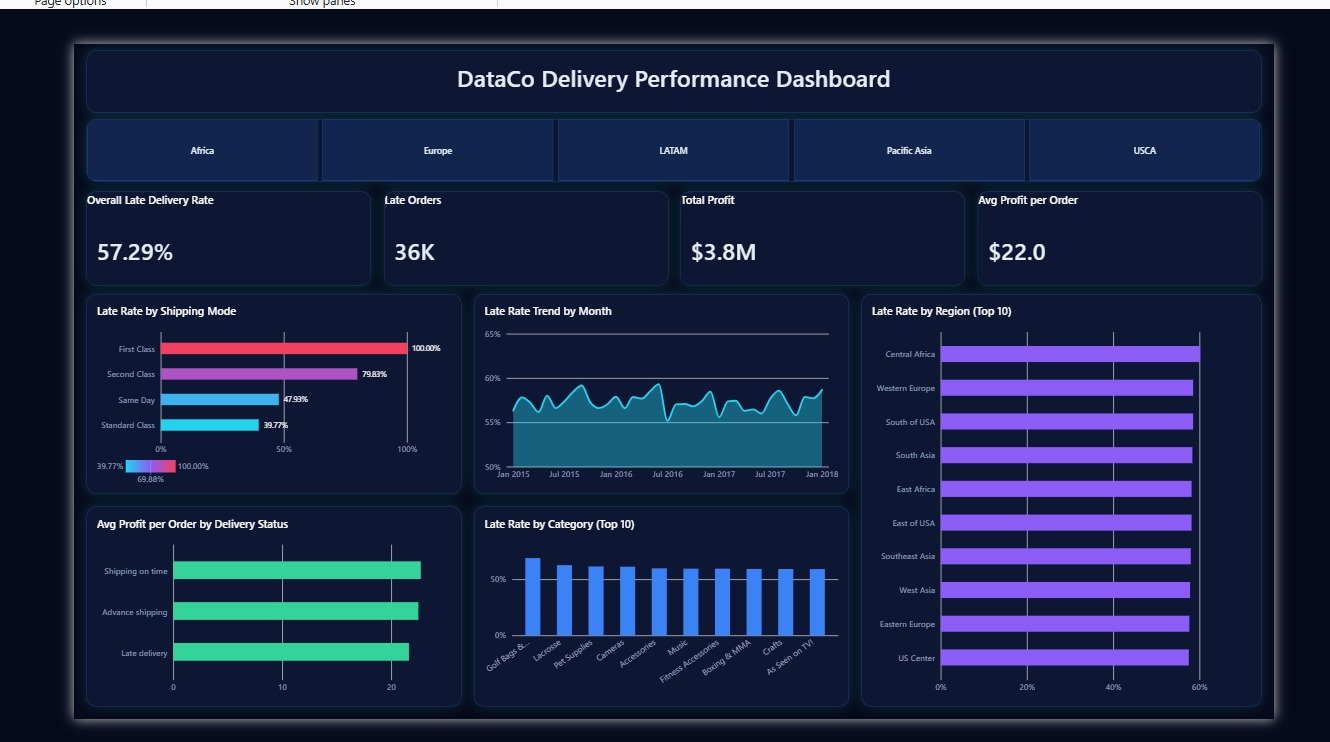

This screenshot's page, from the dashboard's own definition file:
{"tool":"powerbi","page":{"name":"Page 1","canvas":[1920,1080],"ordinal":1},"visuals":[{"type":"cardVisual","title":"Overall Late Delivery Rate","fields":{"Data":["Avg(dataco_clean.late_delivery_risk)"]},"box":[20,235,455,150],"z":0},{"type":"clusteredBarChart","title":"Late Rate by Shipping Mode","fields":{"Category":["dataco_clean.shipping_mode"],"Y":["Avg(dataco_clean.late_delivery_risk)"]},"box":[20,400,600,320],"z":1000},{"type":"clusteredColumnChart","title":"Late Rate by Category (Top 10)","fields":{"Category":["dataco_clean.category_name"],"Y":["Avg(dataco_clean.late_delivery_risk)"]},"box":[640,740,600,320],"z":2000},{"type":"areaChart","title":"Late Rate Trend by Month","fields":{"Category":["dataco_clean.order_date.Variation.Date Hierarchy.Year","dataco_clean.order_date.Variation.Date Hierarchy.Month"],"Y":["Avg(dataco_clean.late_delivery_risk)"]},"box":[640,400,600,320],"z":3000},{"type":"clusteredBarChart","title":"Avg Profit per Order by Delivery Status","fields":{"Category":["dataco_clean.delivery_status"],"Y":["Avg(dataco_clean.order_profit_per_order)"]},"box":[20,740,600,320],"z":4000},{"type":"clusteredBarChart","title":"Late Rate by Region (Top 10)","fields":{"Category":["dataco_clean.order_region"],"Y":["Avg(dataco_clean.late_delivery_risk)"]},"box":[1260,400,640,660],"z":5000},{"type":"textbox","box":[20,10,1880,100],"z":6000},{"type":"advancedSlicerVisual","fields":{"Values":["dataco_clean.market"]},"box":[20,120,1880,100],"z":7000},{"type":"cardVisual","title":"Avg Profit per Order","fields":{"Data":["dataco_clean.Avg Profit per Order"]},"box":[1445,235,455,150],"z":8000},{"type":"cardVisual","title":"Total Profit","fields":{"Data":["dataco_clean.Total Profit"]},"box":[970,235,455,150],"z":9000},{"type":"cardVisual","title":"Late Orders","fields":{"Data":["dataco_clean.Late Orders"]},"box":[495,235,455,150],"z":10000}]}

Visuals, with their boxes on the page's 1920x1080 design canvas (x1, y1, x2, y2). These are canvas units, not pixel positions in the 1330x742 screenshot, which may show the page scaled, cropped or inside an application window:
"Overall Late Delivery Rate" cardVisual: [x1=20, y1=235, x2=475, y2=385]
"Late Rate by Shipping Mode" clusteredBarChart: [x1=20, y1=400, x2=620, y2=720]
"Late Rate by Category (Top 10)" clusteredColumnChart: [x1=640, y1=740, x2=1240, y2=1060]
"Late Rate Trend by Month" areaChart: [x1=640, y1=400, x2=1240, y2=720]
"Avg Profit per Order by Delivery Status" clusteredBarChart: [x1=20, y1=740, x2=620, y2=1060]
"Late Rate by Region (Top 10)" clusteredBarChart: [x1=1260, y1=400, x2=1900, y2=1060]
textbox: [x1=20, y1=10, x2=1900, y2=110]
advancedSlicerVisual - dataco_clean.market: [x1=20, y1=120, x2=1900, y2=220]
"Avg Profit per Order" cardVisual: [x1=1445, y1=235, x2=1900, y2=385]
"Total Profit" cardVisual: [x1=970, y1=235, x2=1425, y2=385]
"Late Orders" cardVisual: [x1=495, y1=235, x2=950, y2=385]
